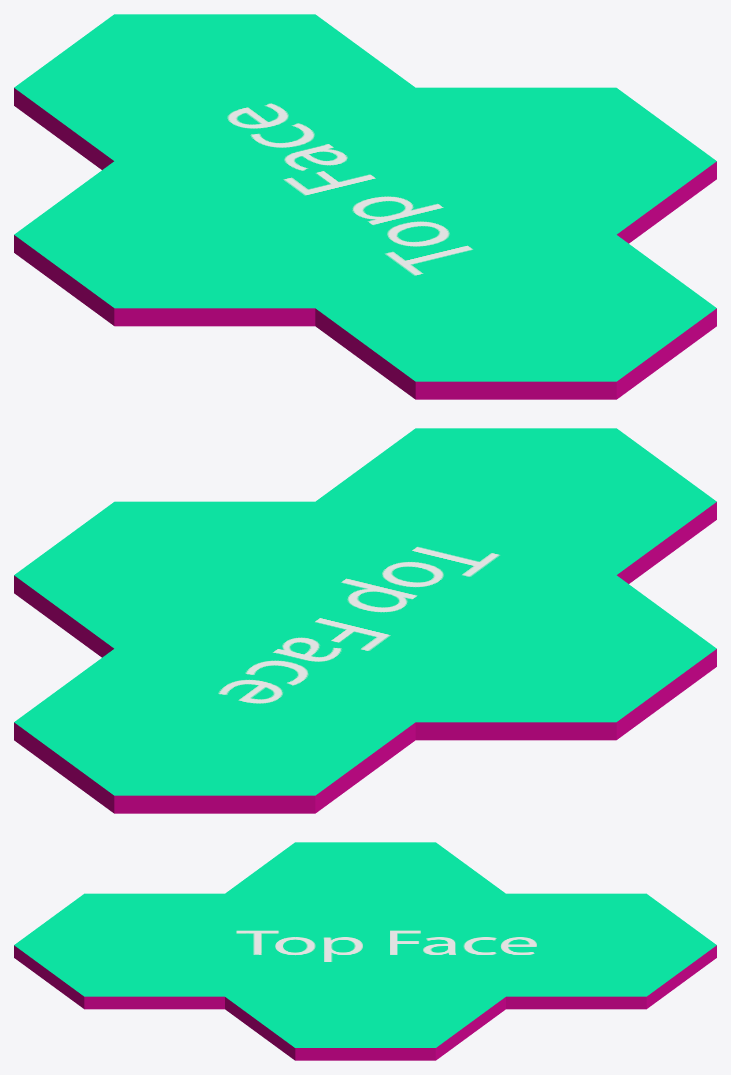
Rendered from four-hexes-model.obj.
3 views of the same model, one above another, from view 1: azimuth 30°, elevation 25°; view 2: azimuth 150°, elevation 25°; view 3: azimuth 270°, elevation 25° (orthographic). The views are drawn at different scales.
Visible parts, largest first — view 1: Cylinder.001; view 2: Cylinder.001; view 3: Cylinder.001.
Part boxes in pixels (x1,y1,x2,y2): Cylinder.001: (14,14,716,399); Cylinder.001: (14,428,716,813); Cylinder.001: (14,842,716,1060).
Size of the model in its own units: 3.46 by 0.0991 by 5.
